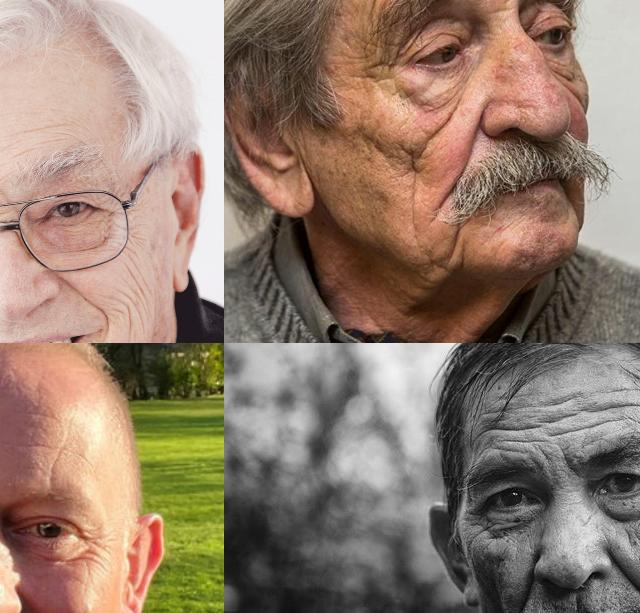crows_feet: (368, 49, 407, 91), (466, 509, 494, 537), (100, 202, 116, 246), (80, 530, 102, 560)
forehead: (552, 402, 636, 434), (7, 120, 77, 152), (476, 411, 538, 439), (38, 448, 61, 486)
frown_line: (486, 0, 519, 20), (558, 448, 578, 472), (0, 206, 15, 223)
gummy_smile: (51, 265, 97, 305), (605, 549, 640, 598), (458, 116, 484, 176), (513, 565, 538, 613), (428, 182, 458, 215)
masseter: (118, 250, 150, 328), (422, 107, 458, 147), (398, 142, 428, 180)
sad_smile: (442, 224, 470, 274), (559, 181, 583, 229)
smoker_lines: (569, 592, 585, 613)
